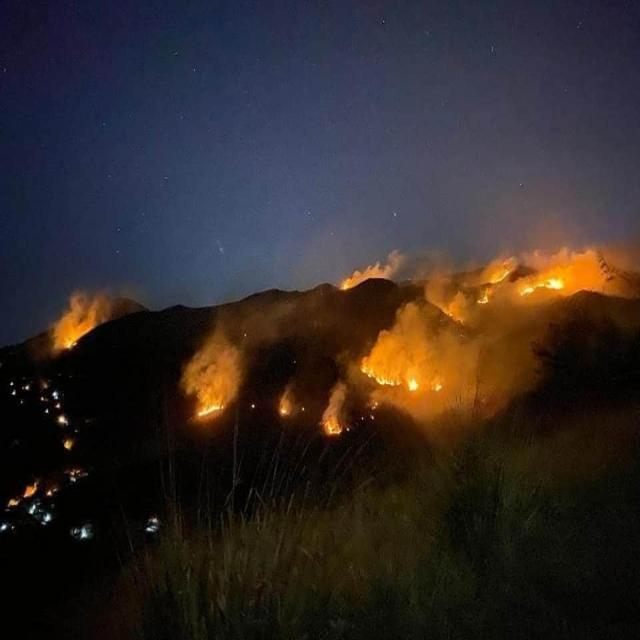Fire: (361, 364, 396, 386), (519, 278, 561, 294), (64, 324, 91, 348), (198, 405, 224, 417), (488, 270, 509, 284), (406, 378, 420, 392), (431, 380, 444, 393), (328, 422, 342, 434), (476, 294, 490, 306), (342, 280, 352, 292)
Smoke: (360, 240, 636, 404), (49, 279, 142, 356), (178, 322, 250, 420), (342, 251, 410, 289), (321, 383, 348, 437), (275, 378, 299, 419)
